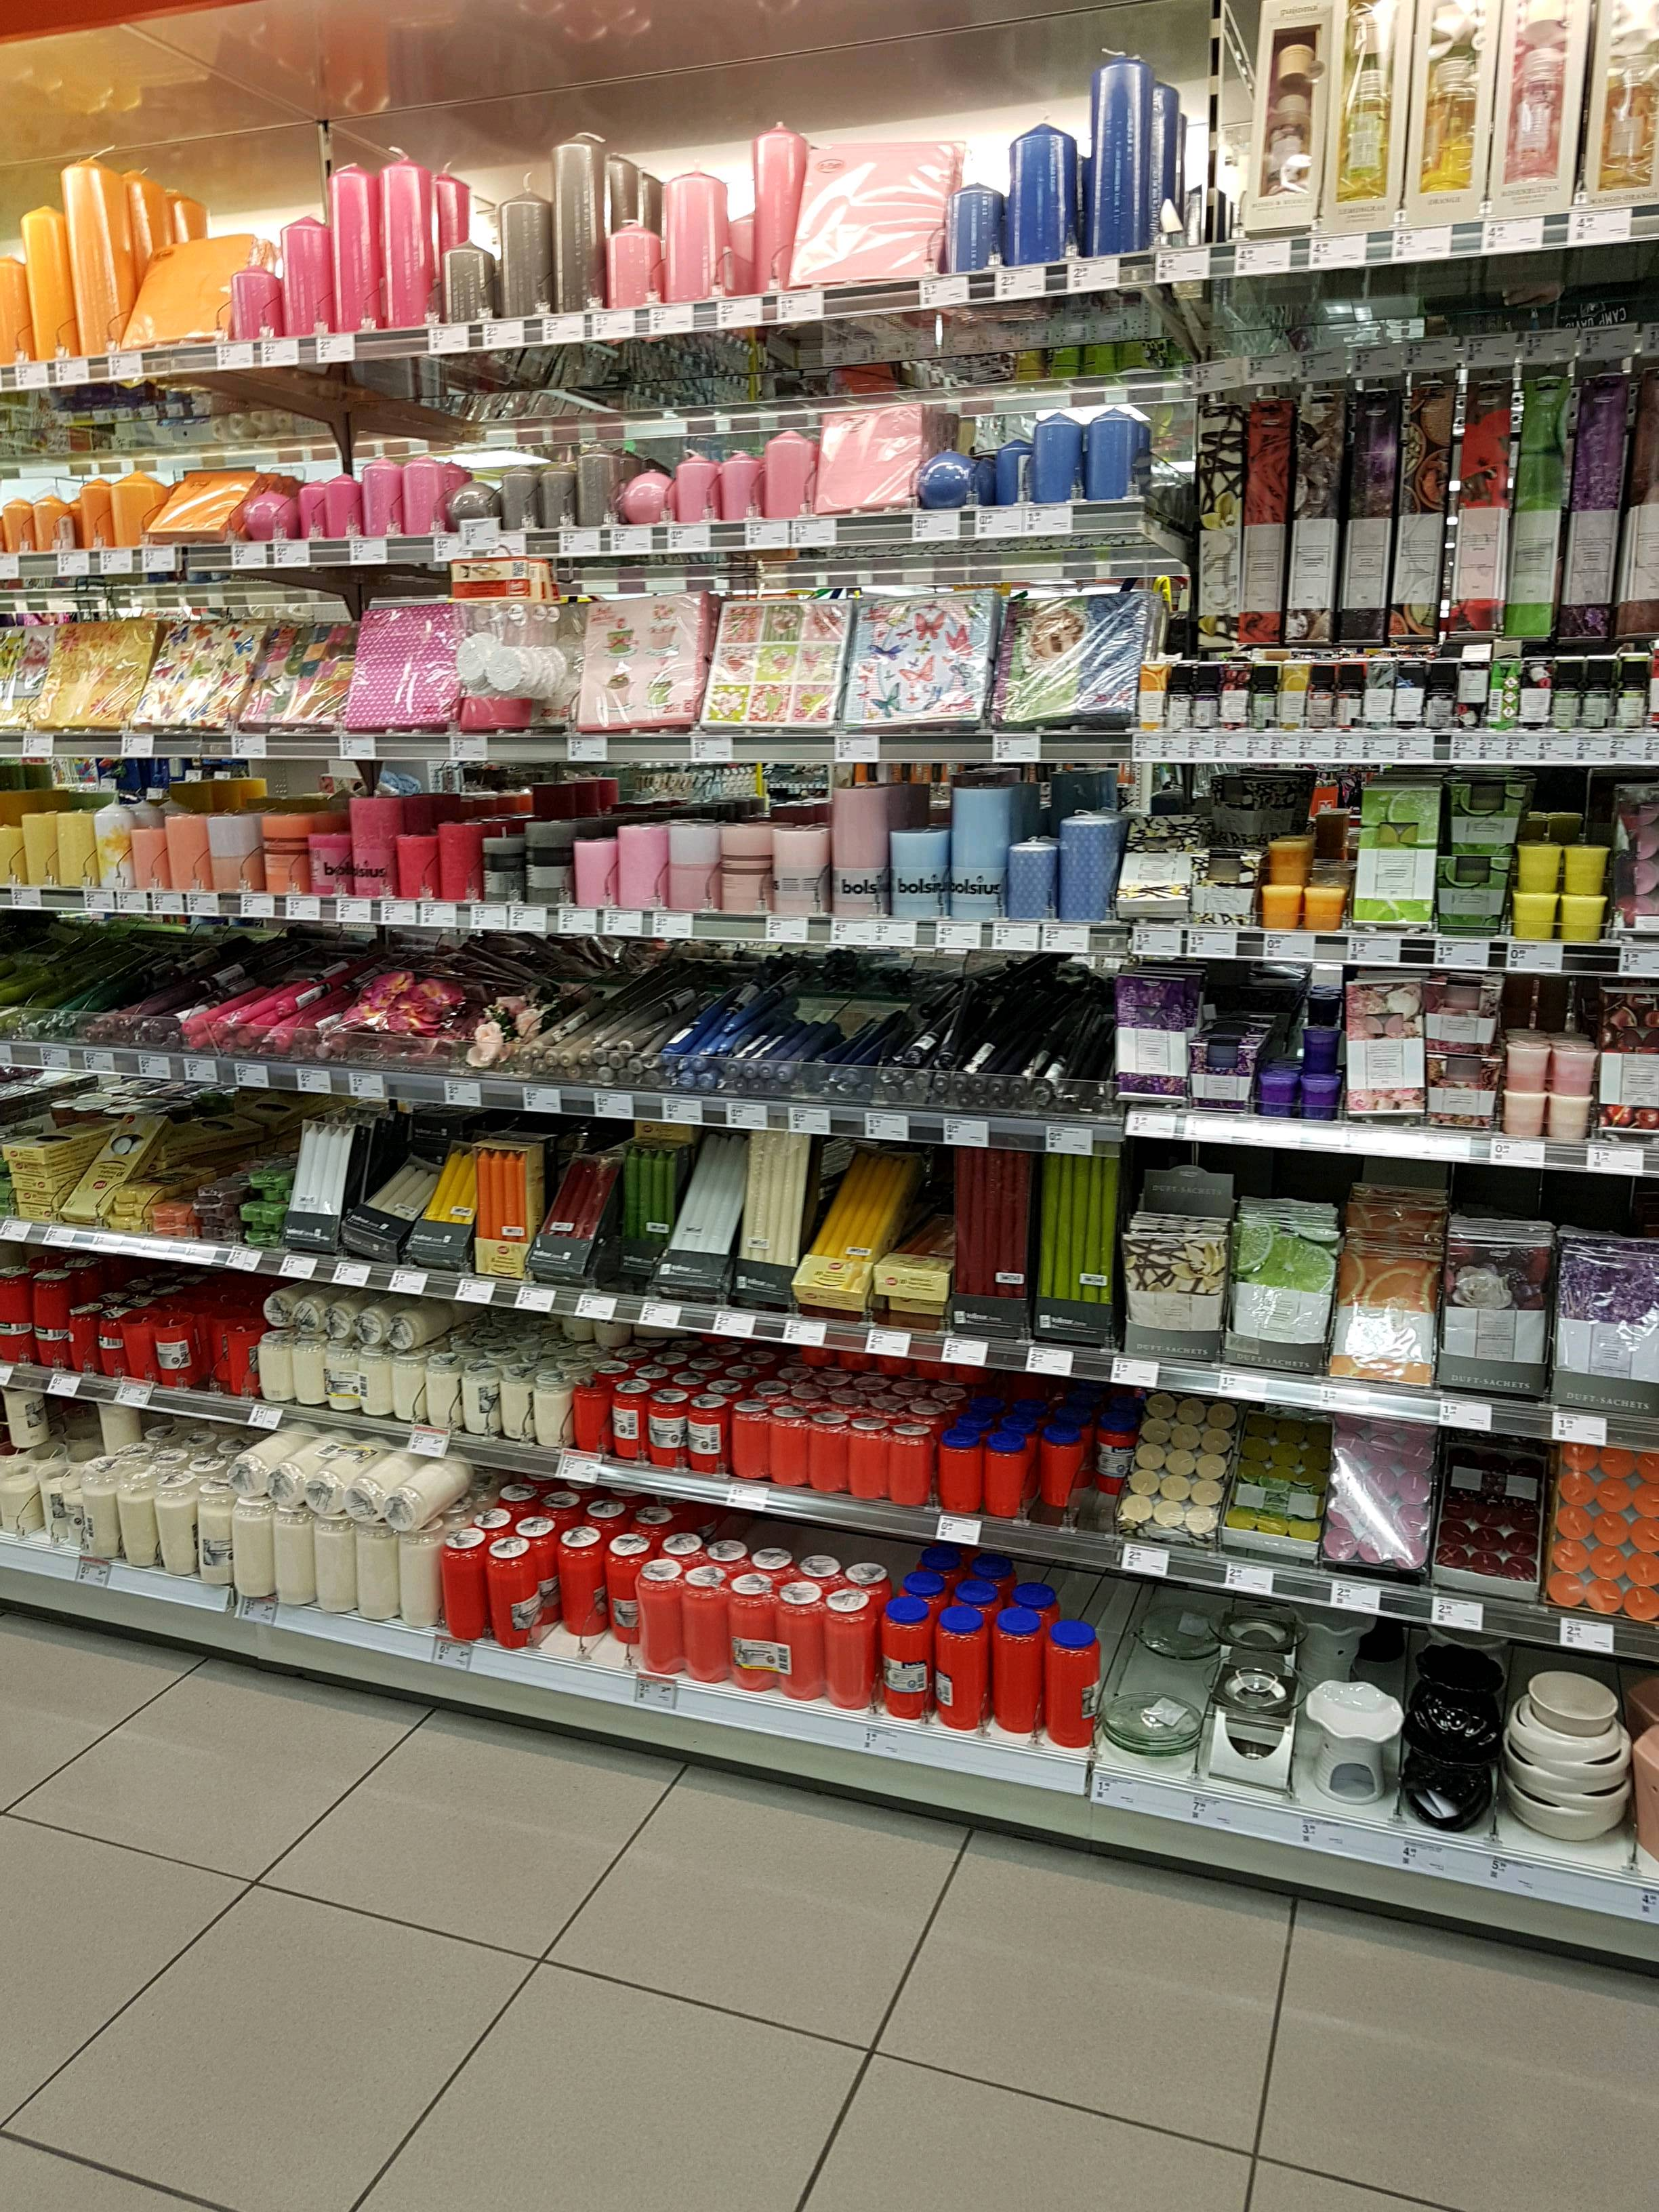Misplacement: (538, 1527, 647, 1672)
